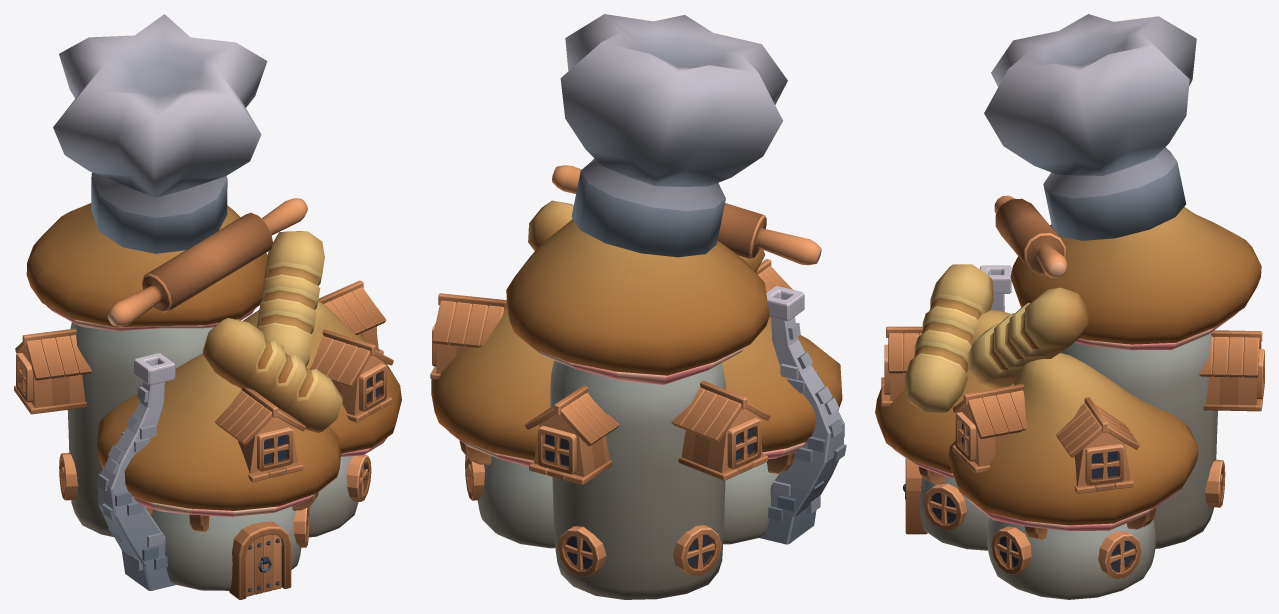
The model's file is mt_house19.fbx.
3 renders of one model, left to right at view 1: azimuth 30°, elevation 25°; view 2: azimuth 150°, elevation 25°; view 3: azimuth 270°, elevation 25°, orthographic. The views are drawn at different scales.
Visible parts, largest first — view 1: h19; view 2: h19; view 3: h19.
Boxes of the visible parts, x1,y1,x2,y2 form: h19: (14, 14, 401, 599); h19: (430, 14, 846, 599); h19: (875, 14, 1264, 599).
Size of the model in its own units: 1041 by 1476 by 1068.
